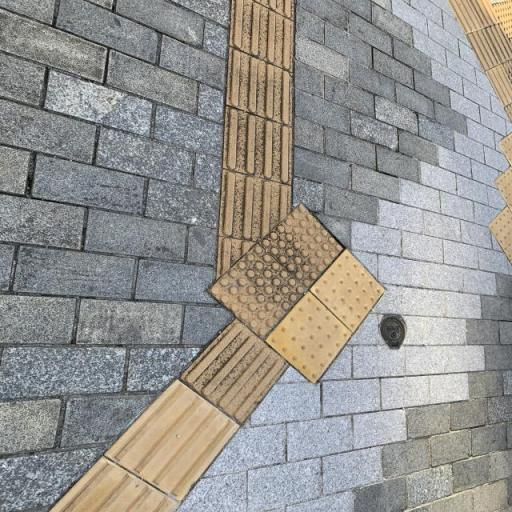dot: (206, 244, 308, 341), (264, 291, 353, 384), (260, 204, 345, 289), (310, 248, 386, 333)
line: (104, 379, 242, 503), (179, 320, 290, 425), (223, 106, 293, 184), (226, 47, 294, 127), (219, 170, 292, 242)
